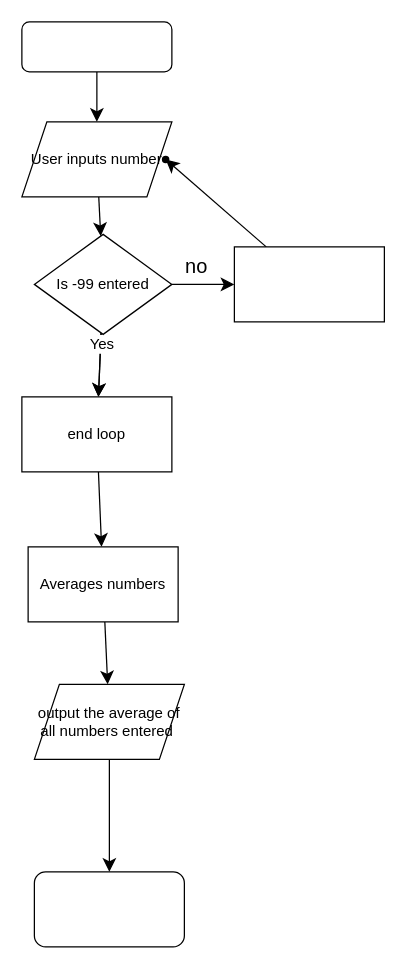
This 406x969 diagram has some shape labels left out. The centre of each missing label's shape, as x and y in pixels:
add number to total answer: [308,284]
End: [108,909]
Loop Initializes: [96,46]
